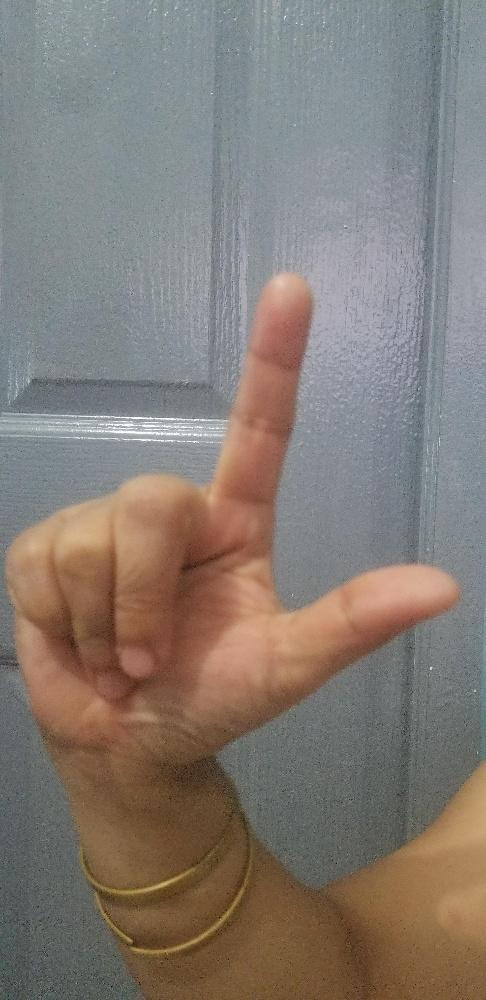l: (2, 274, 459, 762)
